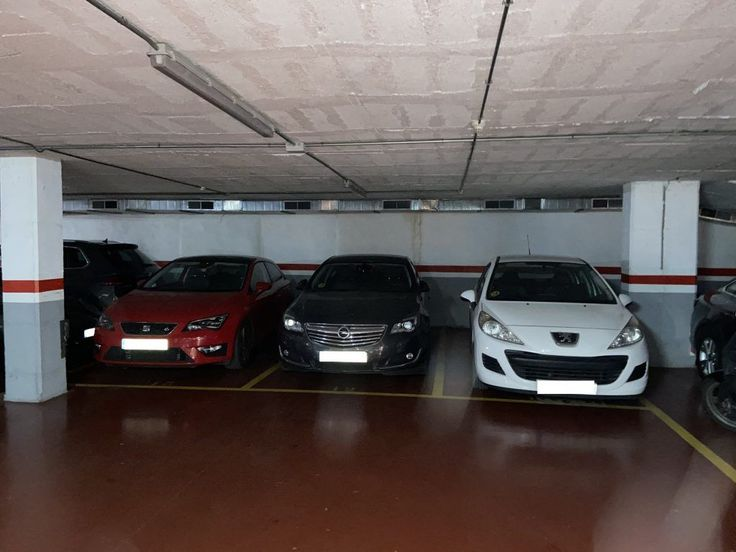car: (73, 243, 289, 379), (471, 248, 653, 408), (263, 248, 436, 382), (72, 229, 161, 338)
